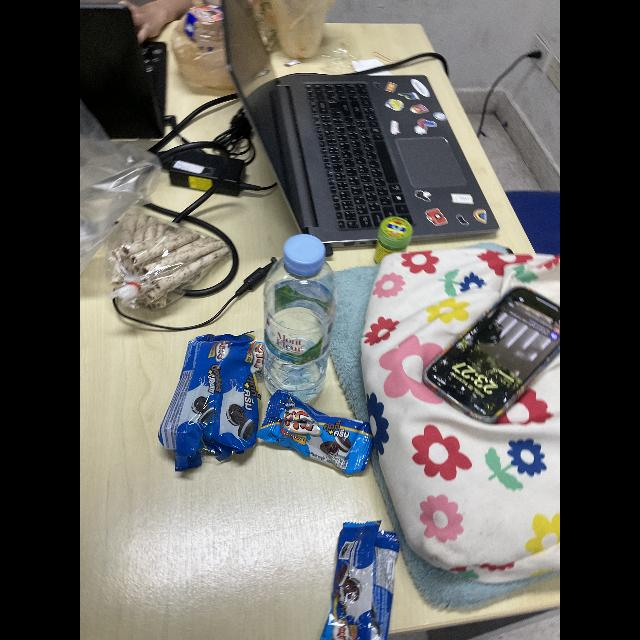plastic_bag: (80, 96, 162, 274), (172, 2, 244, 96), (250, 1, 330, 62)
plastic_bottle: (258, 232, 336, 408)
plastic_bottle_cap: (282, 234, 324, 278)
plastic_cup: (183, 5, 230, 57)
snack_bag: (108, 206, 232, 314), (258, 386, 378, 476), (320, 518, 404, 640), (158, 328, 226, 478), (205, 330, 258, 474)
